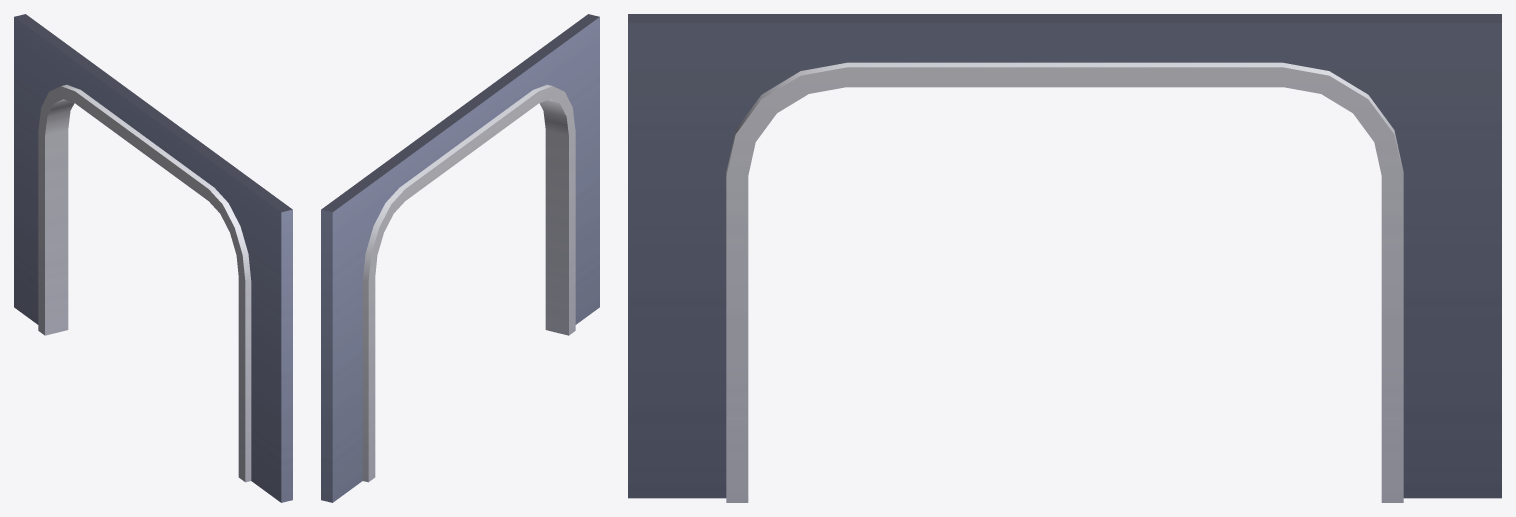
Rendered from fenetre.glb.
3 renders of one model, left to right at view 1: azimuth 30°, elevation 25°; view 2: azimuth 150°, elevation 25°; view 3: azimuth 270°, elevation 25°, orthographic. The views are drawn at different scales.
Visible parts, largest first — view 1: wall-doorway-wide-round; view 2: wall-doorway-wide-round; view 3: wall-doorway-wide-round.
Part boxes in pixels (x1,y1,x2,y2): wall-doorway-wide-round: [14, 14, 292, 502]; wall-doorway-wide-round: [321, 14, 599, 502]; wall-doorway-wide-round: [628, 14, 1501, 502].
Bounding box in the file's own units: 0.2 × 2.4 × 4.
Materials: 1 (1 with a texture image).
